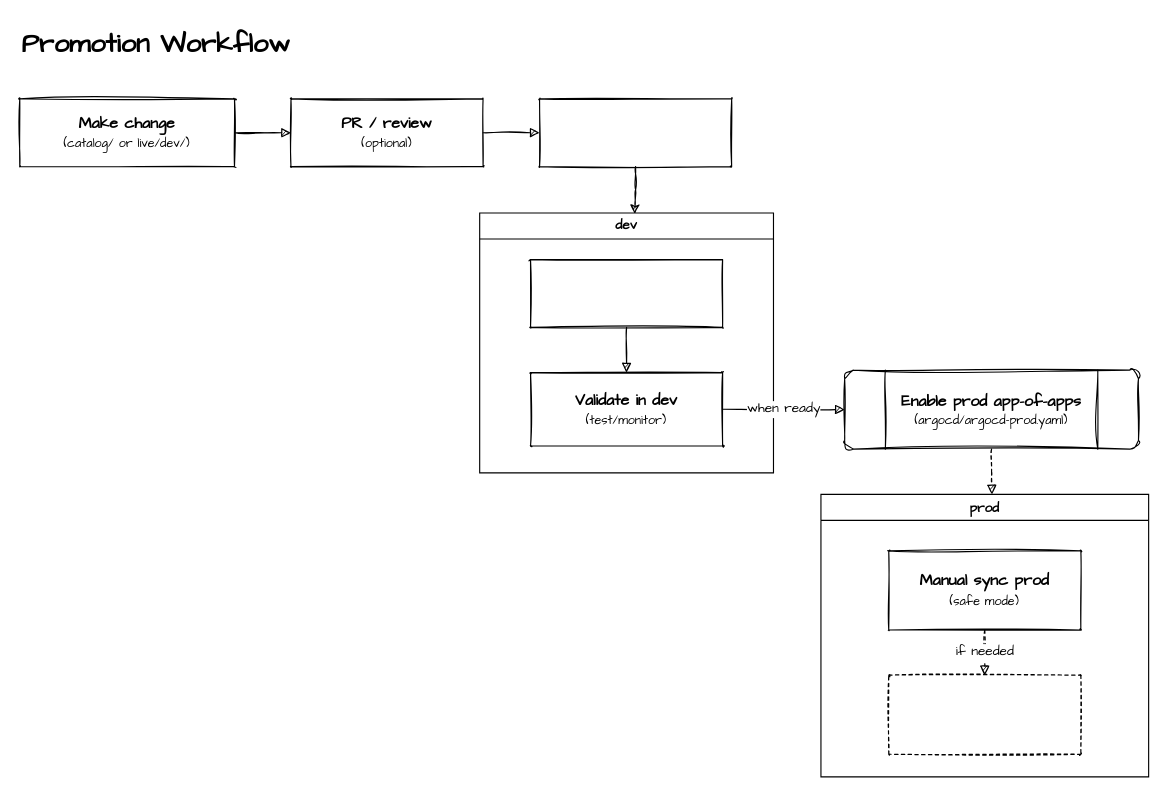
This 1168x797 diagram has some shape labels left out. Each missing label, with the centre of its shape:
"Argo CD auto-sync (dev)" belongs at pixel 626 292.
"Merge to main" belongs at pixel 635 132.
"Rollback (revert commit + sync)" belongs at pixel 984 714.
